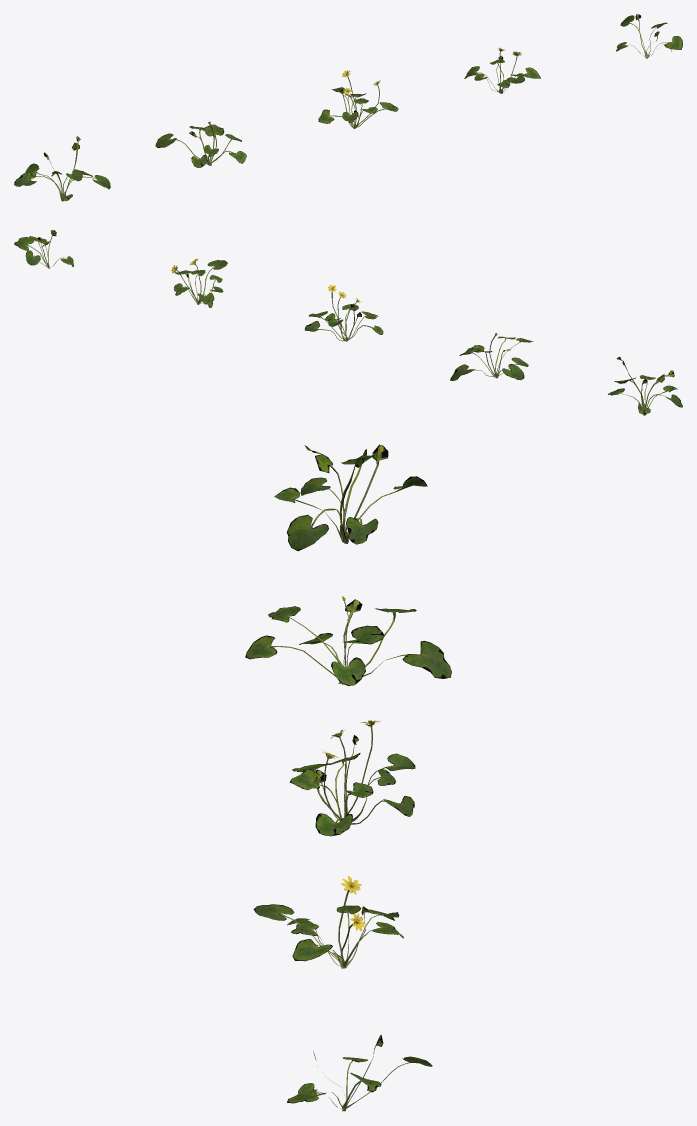
File: flowers_celandine_set.glb
3 views of the same model, one above another, from view 1: azimuth 30°, elevation 25°; view 2: azimuth 150°, elevation 25°; view 3: azimuth 270°, elevation 25° (orthographic). The views are drawn at different scales.
Visible parts, largest first — view 1: celandine_01_b_LOD0, celandine_01_c_LOD0, celandine_01_a_LOD0, celandine_01_d_LOD0, celandine_01_e_LOD0; view 2: celandine_01_c_LOD0, celandine_01_b_LOD0, celandine_01_d_LOD0, celandine_01_a_LOD0, celandine_01_e_LOD0; view 3: celandine_01_b_LOD0, celandine_01_a_LOD0, celandine_01_c_LOD0, celandine_01_d_LOD0, celandine_01_e_LOD0.
Boxes of the visible parts, left/top/right/bottom form: celandine_01_b_LOD0: left=155, top=122, right=246, bottom=167; celandine_01_c_LOD0: left=318, top=70, right=398, bottom=128; celandine_01_a_LOD0: left=14, top=136, right=110, bottom=201; celandine_01_d_LOD0: left=464, top=47, right=540, bottom=93; celandine_01_e_LOD0: left=616, top=14, right=682, bottom=58; celandine_01_c_LOD0: left=304, top=284, right=383, bottom=341; celandine_01_b_LOD0: left=450, top=333, right=533, bottom=380; celandine_01_d_LOD0: left=171, top=258, right=227, bottom=307; celandine_01_a_LOD0: left=608, top=356, right=682, bottom=415; celandine_01_e_LOD0: left=14, top=230, right=73, bottom=268; celandine_01_b_LOD0: left=245, top=596, right=451, bottom=685; celandine_01_a_LOD0: left=274, top=444, right=427, bottom=550; celandine_01_c_LOD0: left=289, top=720, right=415, bottom=836; celandine_01_d_LOD0: left=253, top=876, right=403, bottom=968; celandine_01_e_LOD0: left=287, top=1035, right=432, bottom=1111.
Bounding box in the file's own units: 2.24 × 0.1858 × 0.3067.
Materials: 1 (1 with a texture image).
